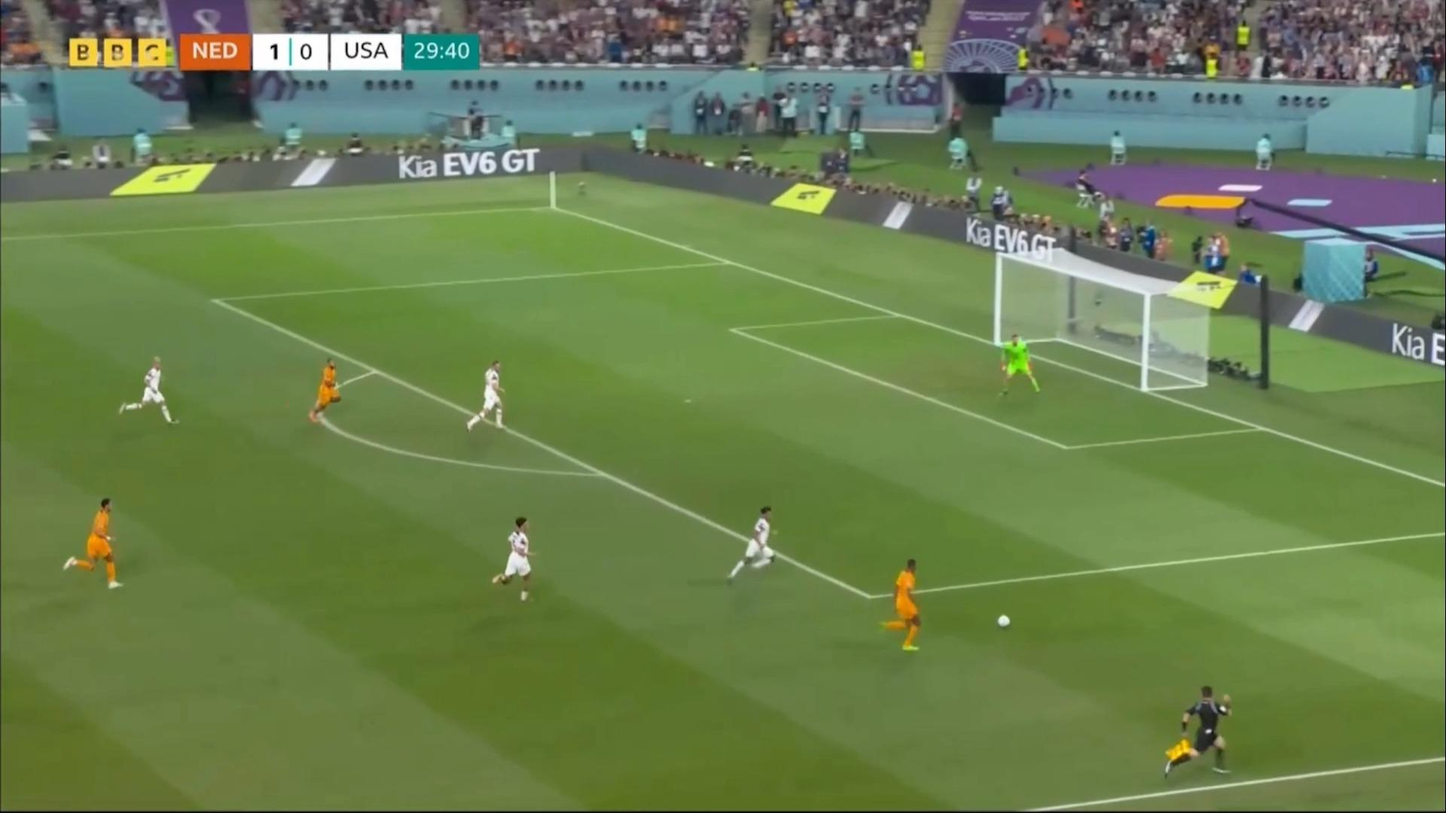Ball: (996, 612, 1014, 628)
Player: (68, 494, 132, 589), (876, 558, 935, 659), (489, 514, 545, 605), (728, 501, 785, 586), (118, 354, 174, 431), (467, 358, 515, 437), (301, 353, 346, 429), (997, 334, 1040, 399)
Ref: (1162, 682, 1235, 777)
